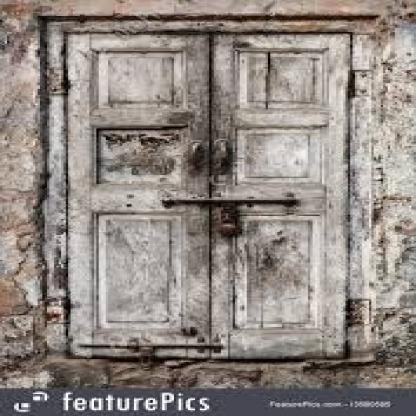door: (47, 20, 350, 355)
